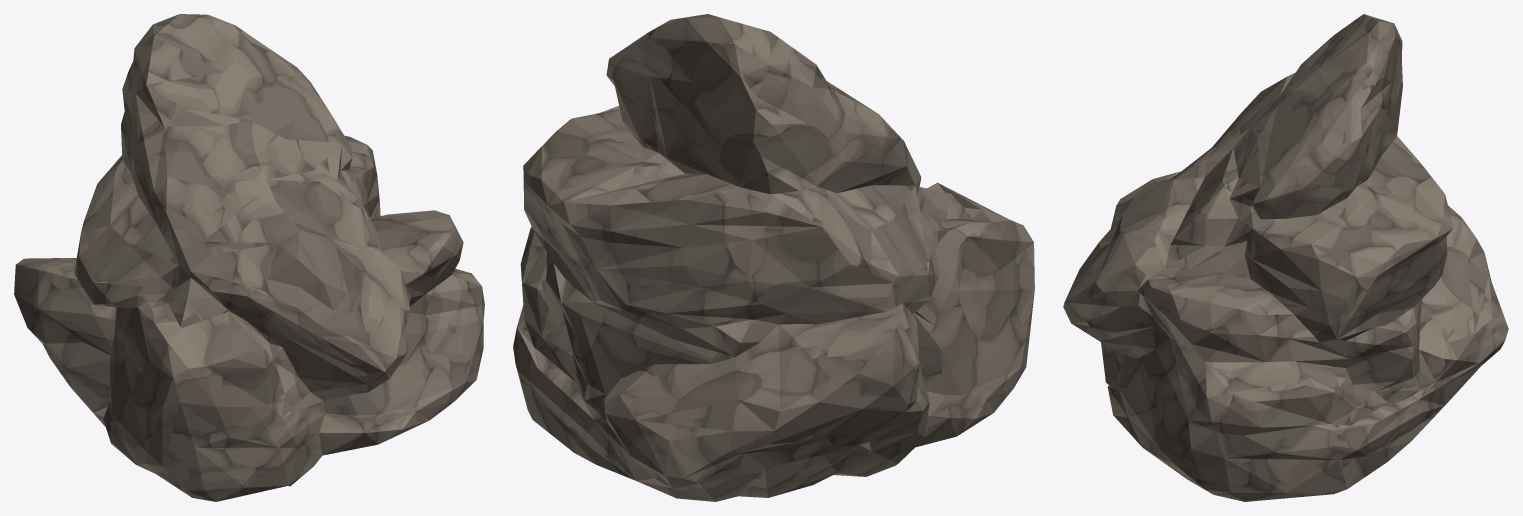
File: source.gltf
3 views of the same model, side by side, from view 1: azimuth 30°, elevation 25°; view 2: azimuth 150°, elevation 25°; view 3: azimuth 270°, elevation 25° (orthographic). The views are drawn at different scales.
Parts seen in each view (by area): view 1: SM_Rock_Cluster_Large_01; view 2: SM_Rock_Cluster_Large_01; view 3: SM_Rock_Cluster_Large_01.
Boxes of the visible parts, x1,y1,x2,y2 form: SM_Rock_Cluster_Large_01: (14, 14, 484, 501); SM_Rock_Cluster_Large_01: (513, 14, 1034, 501); SM_Rock_Cluster_Large_01: (1063, 14, 1508, 501).
Size of the model in its own units: 13.51 by 13.11 by 13.64.
Materials: 1 (1 with a texture image).
